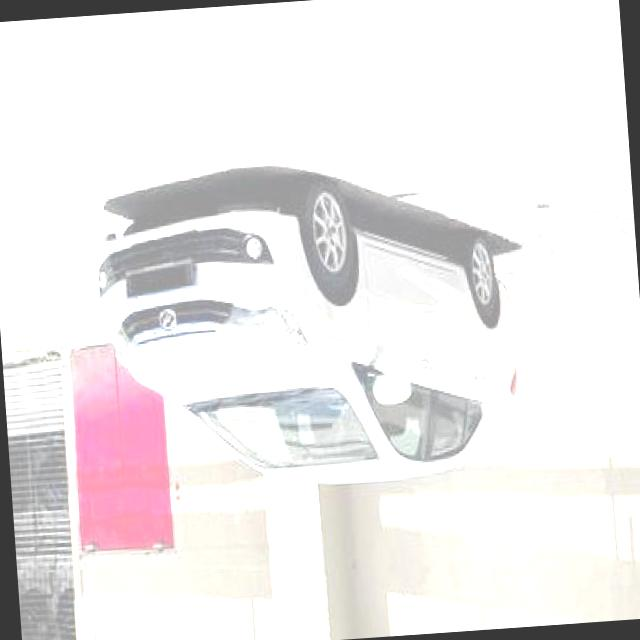PeroduaBezza: (90, 167, 527, 503)
